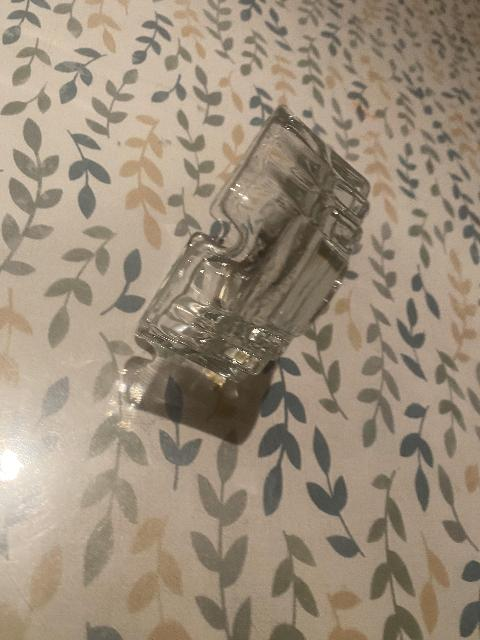Cam: (135, 94, 373, 410)
